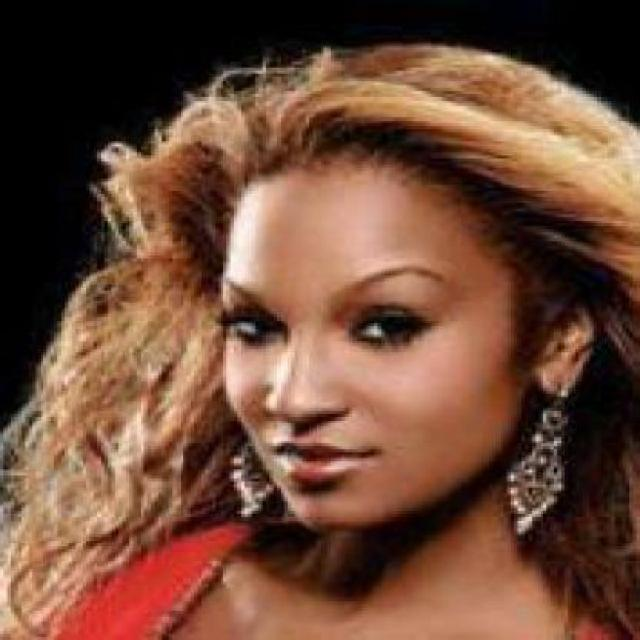closed-mouth: (270, 440, 382, 488)
